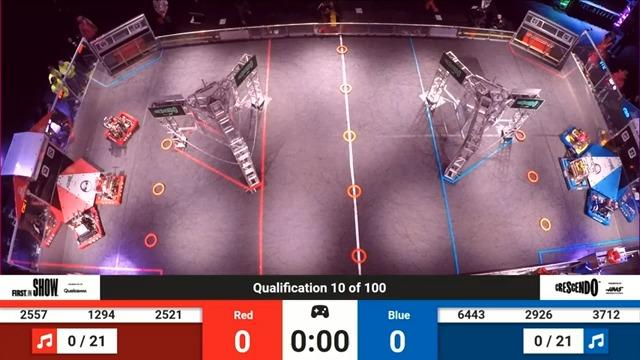robot: (67, 206, 107, 251), (100, 110, 138, 151), (558, 154, 596, 193), (580, 188, 617, 224), (89, 173, 127, 207), (558, 125, 594, 155)
